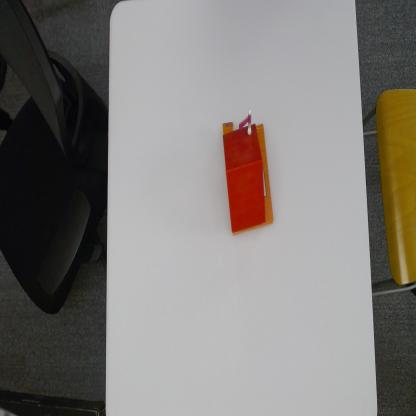House: (221, 110, 275, 237)
